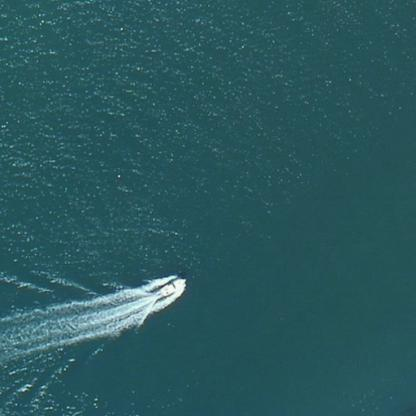ship: (152, 266, 190, 302)
